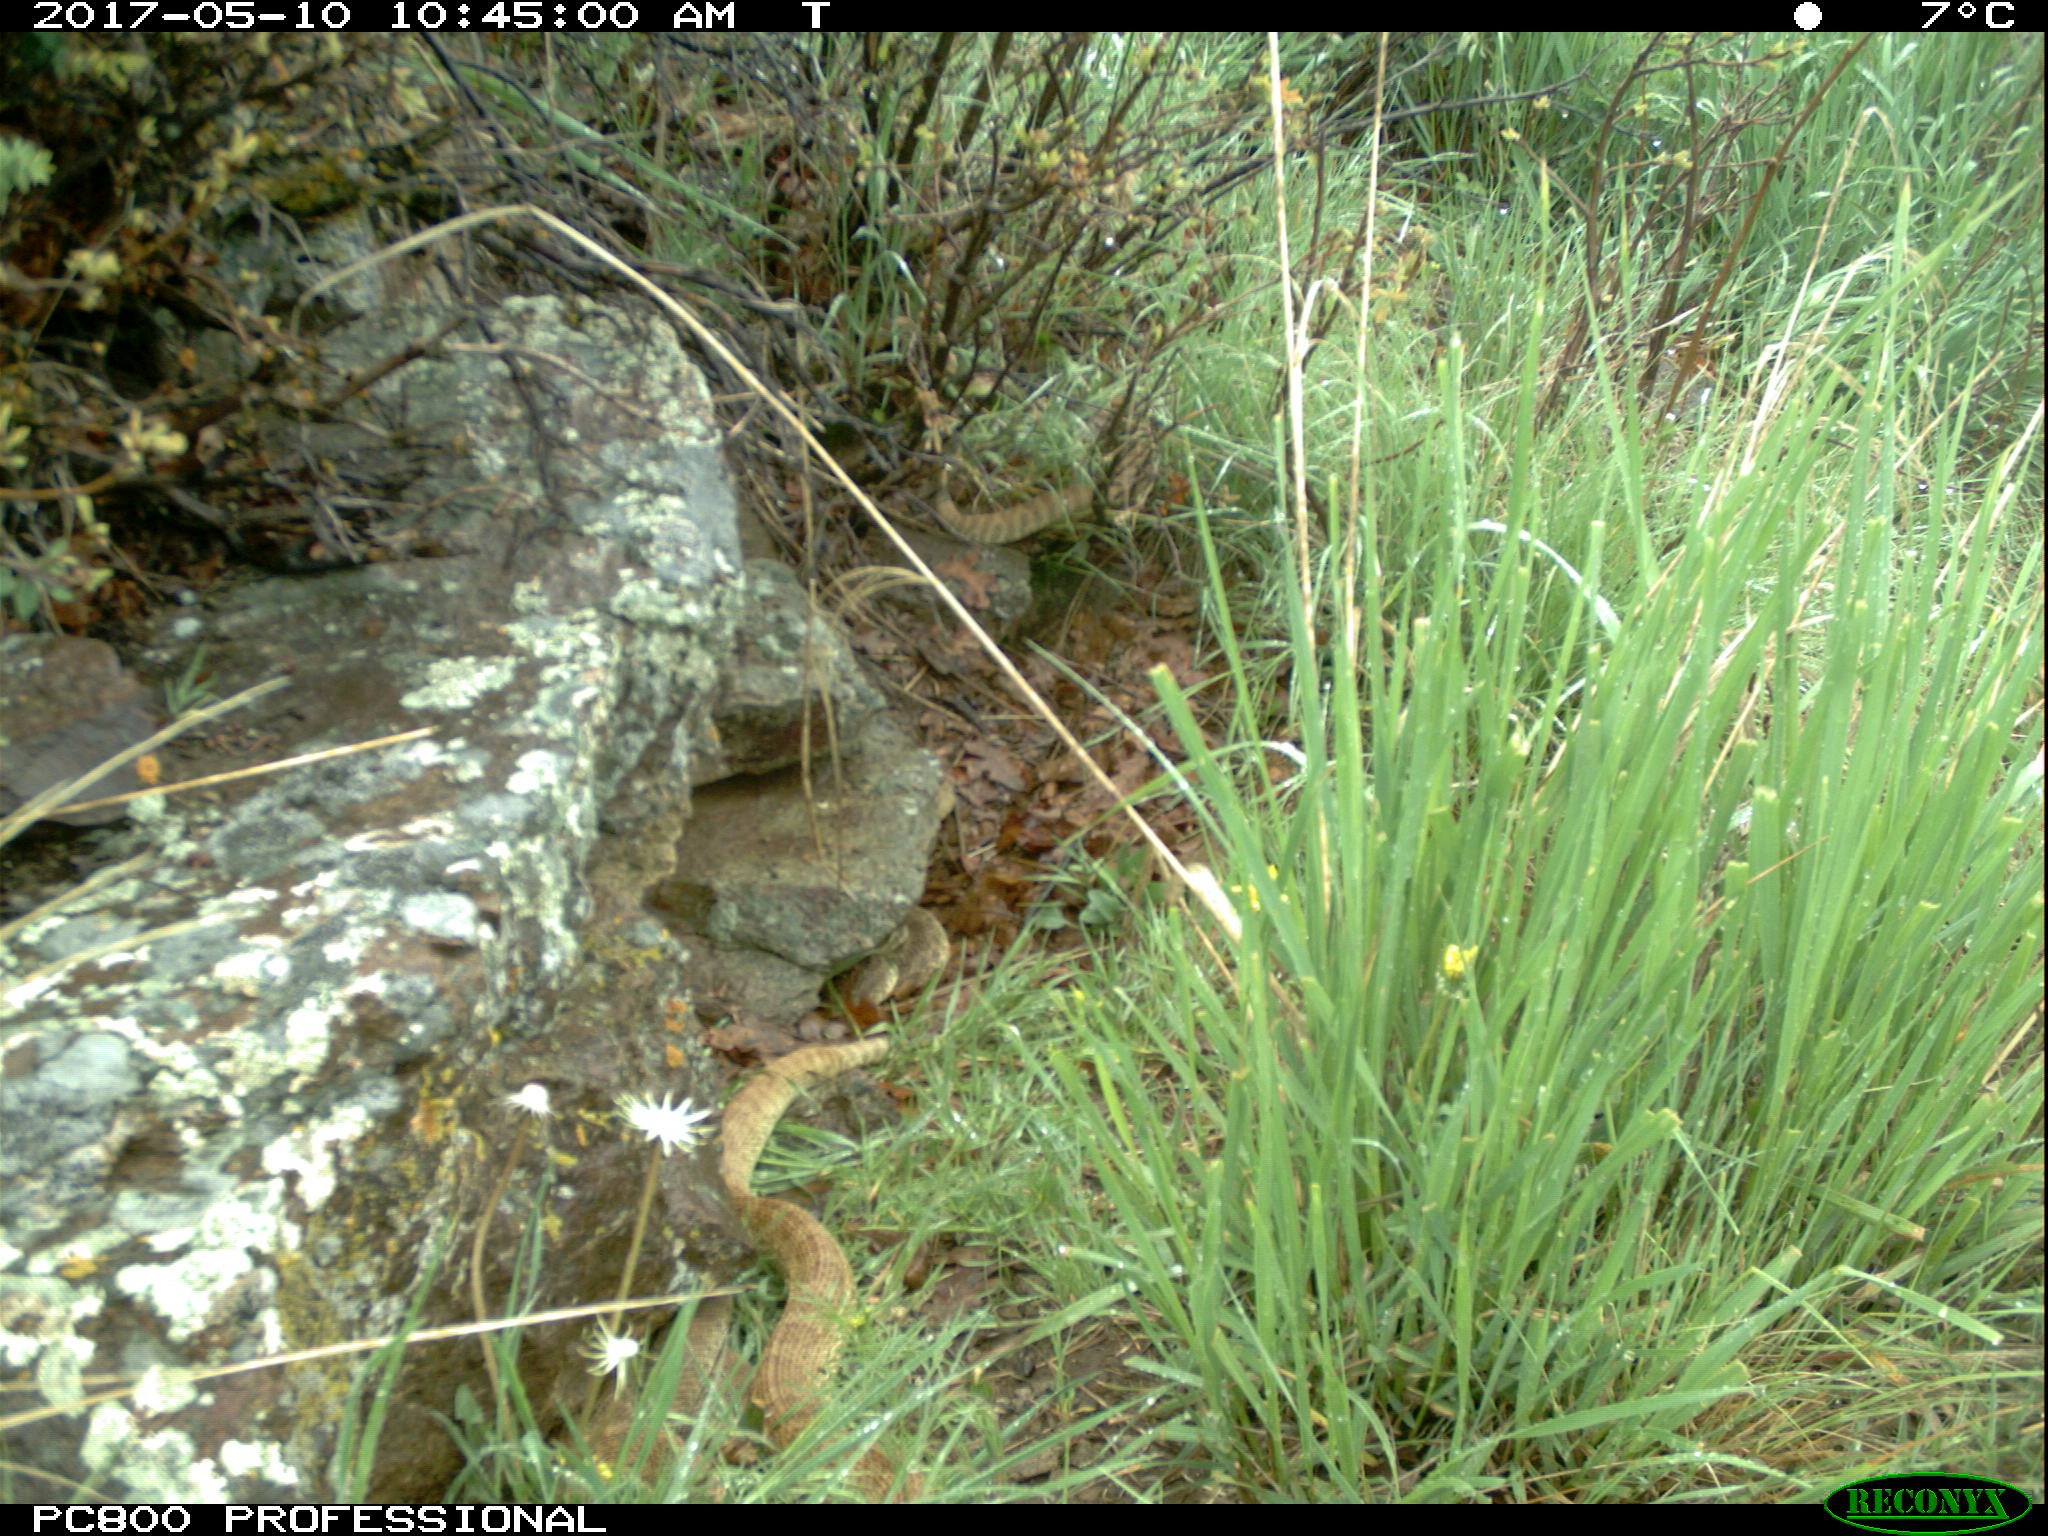snake: (713, 1033, 926, 1502), (624, 1317, 755, 1489), (924, 461, 1100, 542), (848, 907, 955, 1002)
